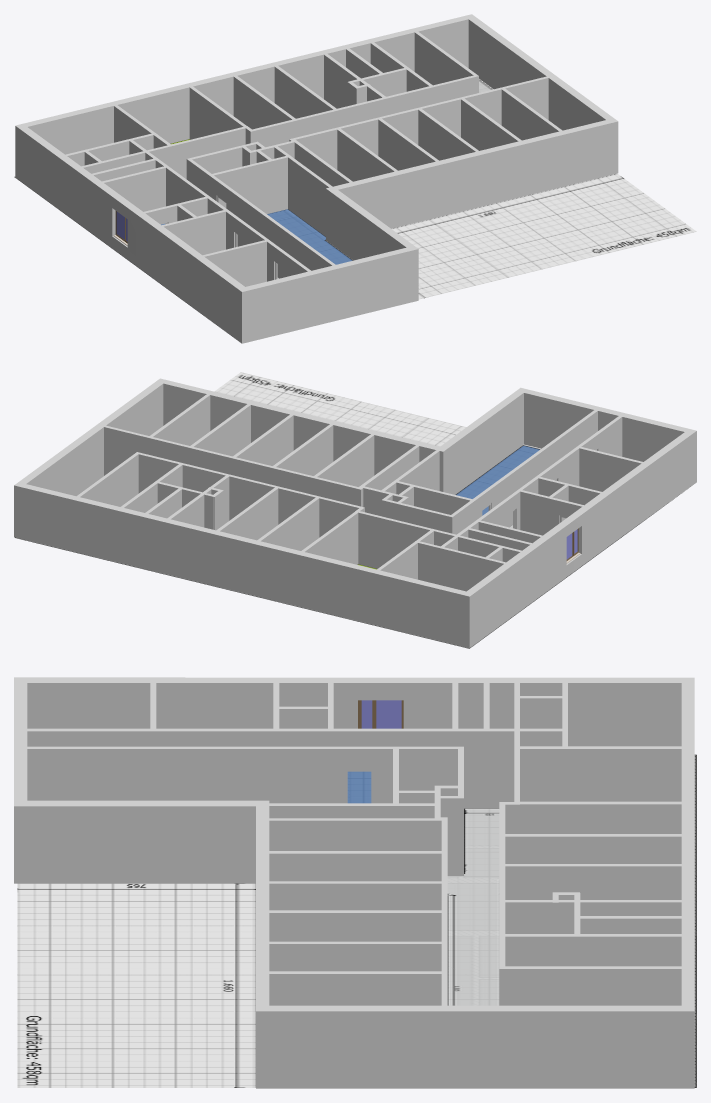
The model's file is XRTechHeadquarter_Top.fbx.
3 views of the same model, one above another, from view 1: azimuth 30°, elevation 25°; view 2: azimuth 150°, elevation 25°; view 3: azimuth 270°, elevation 25° (orthographic). The views are drawn at different scales.
Parts seen in each view (by area): view 1: Walls, TopLevel.001; view 2: Walls, TopLevel.001; view 3: Walls, TopLevel.001, Window.
Boxes of the visible parts, x1,y1,x2,y2 form: Walls: [15, 14, 618, 343]; TopLevel.001: [14, 79, 696, 329]; Walls: [14, 378, 696, 648]; TopLevel.001: [14, 372, 677, 648]; Walls: [14, 677, 694, 1088]; TopLevel.001: [17, 754, 696, 1087]; Window: [358, 700, 403, 728].
Size of the model in its own units: 2683 by 300 by 2318.
Materials: 18 (1 with a texture image).
